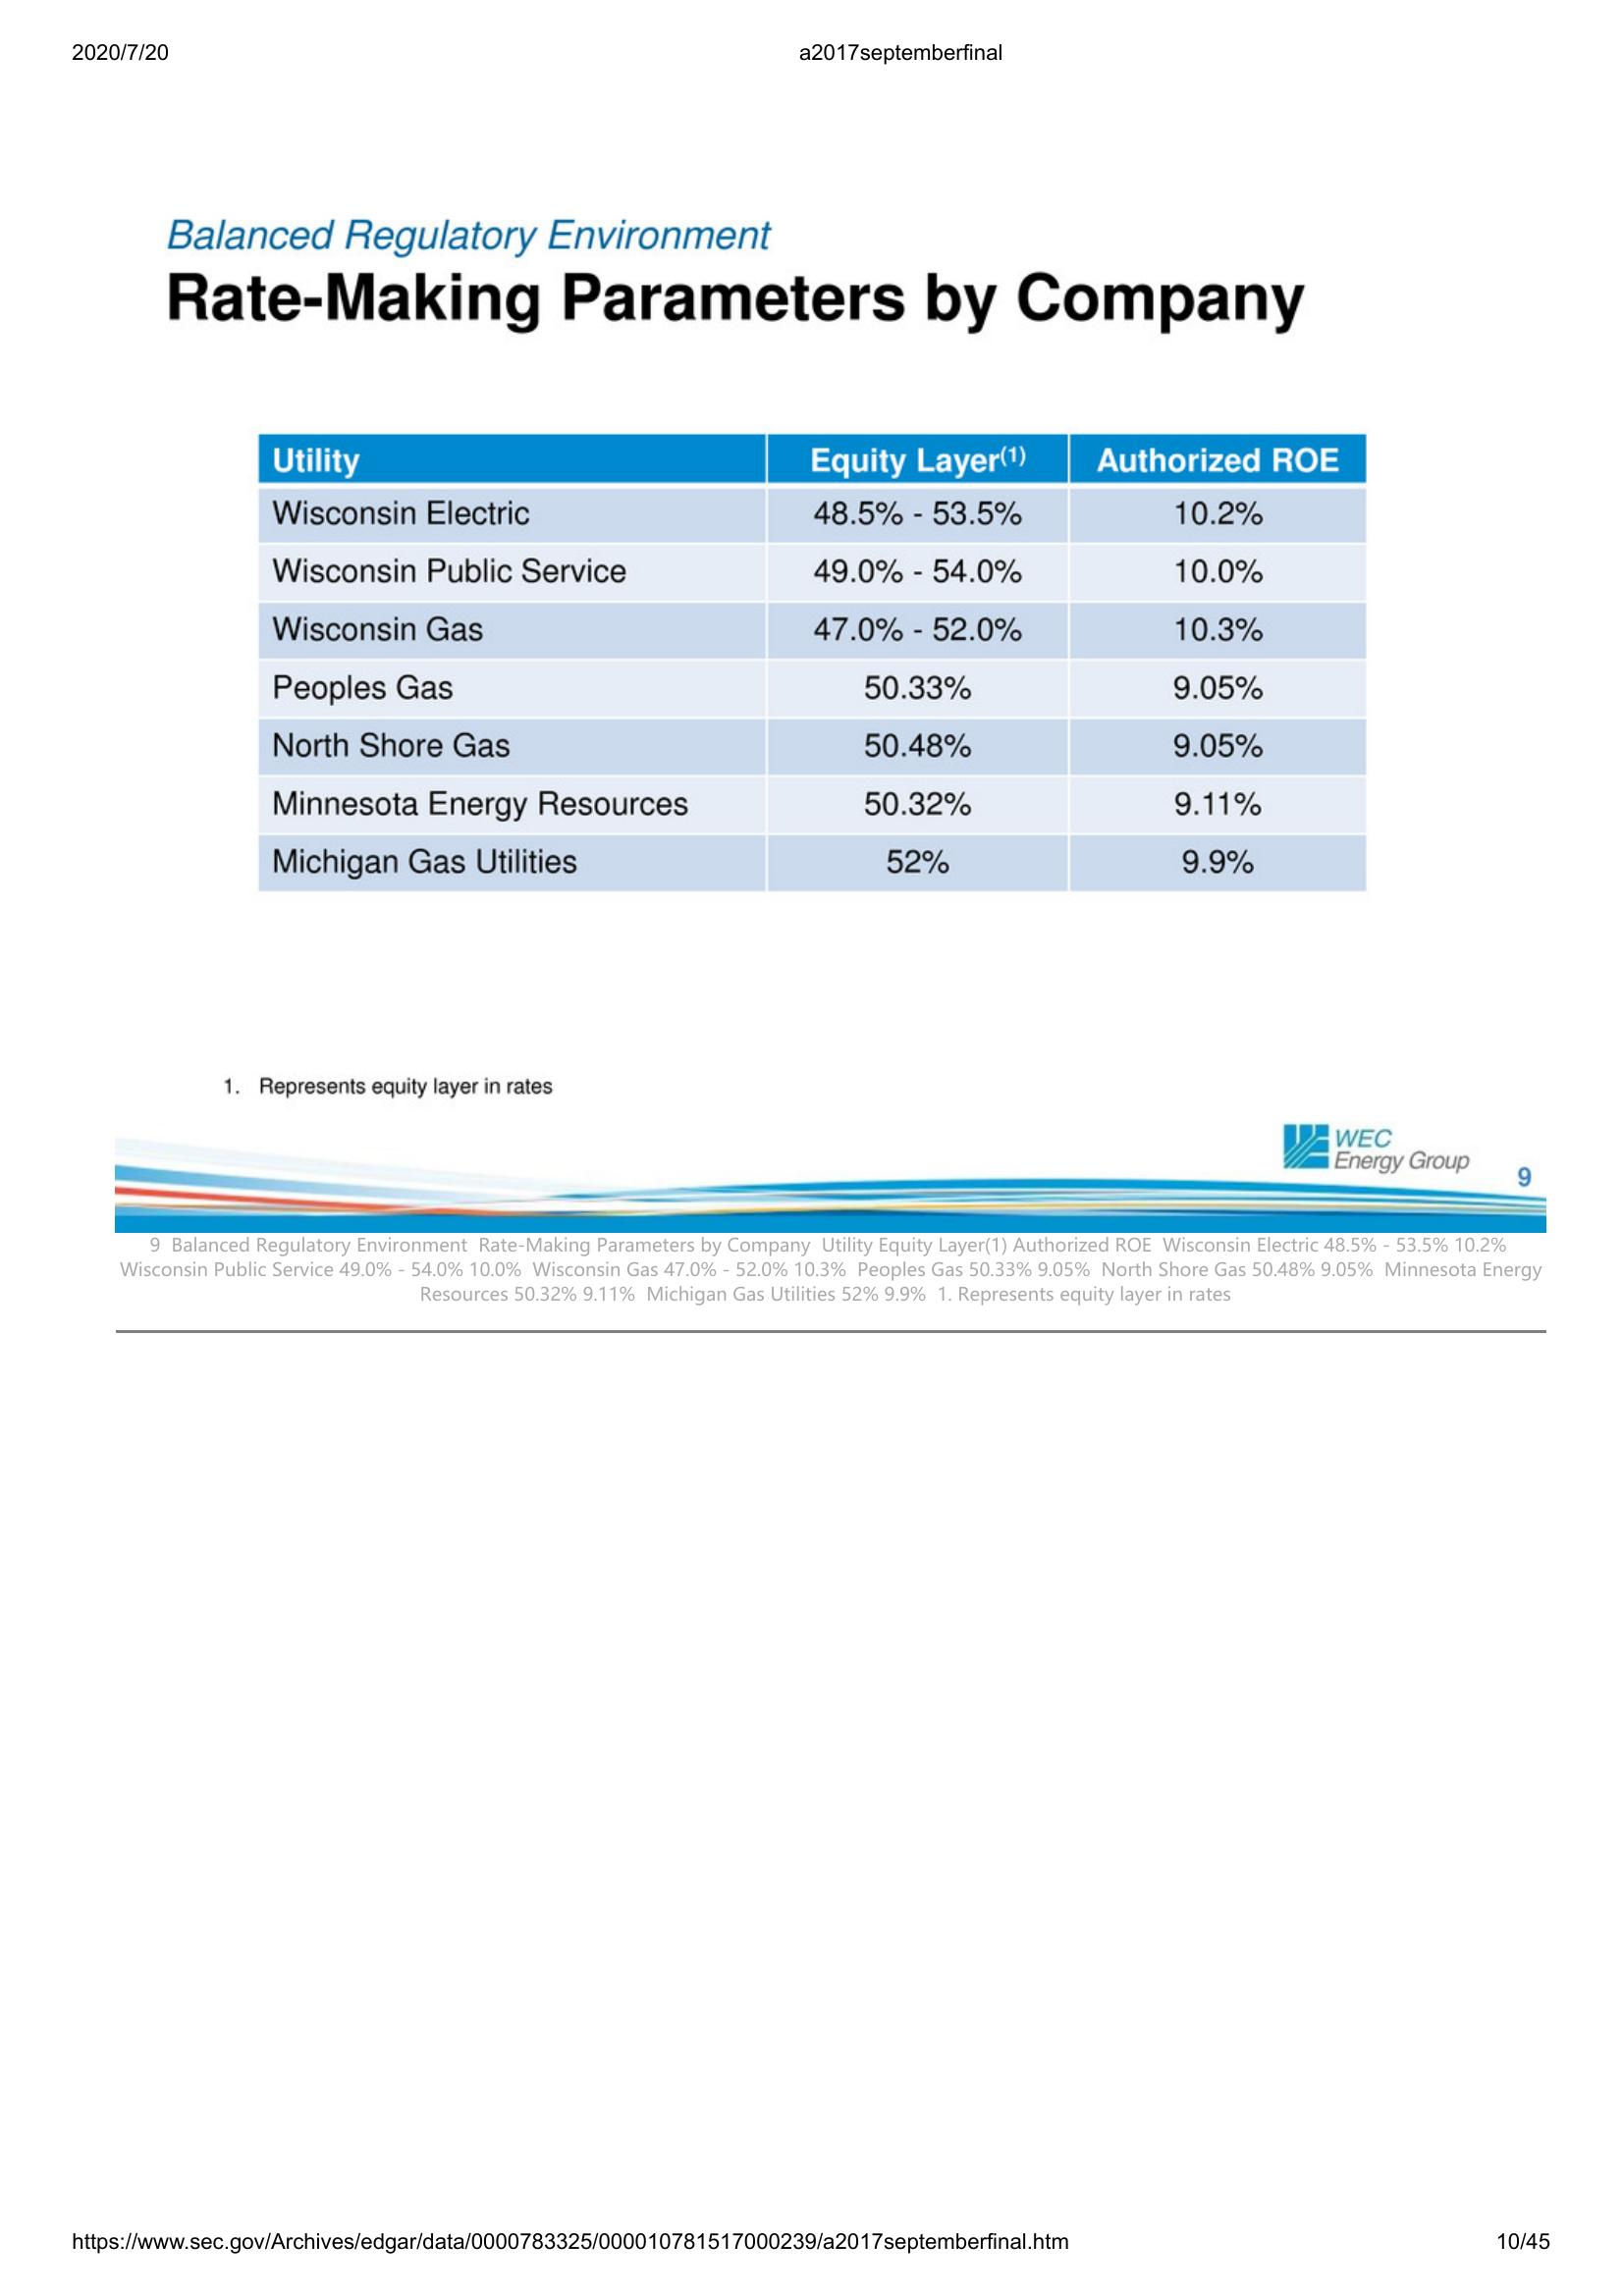table: (253, 430, 1372, 893)
